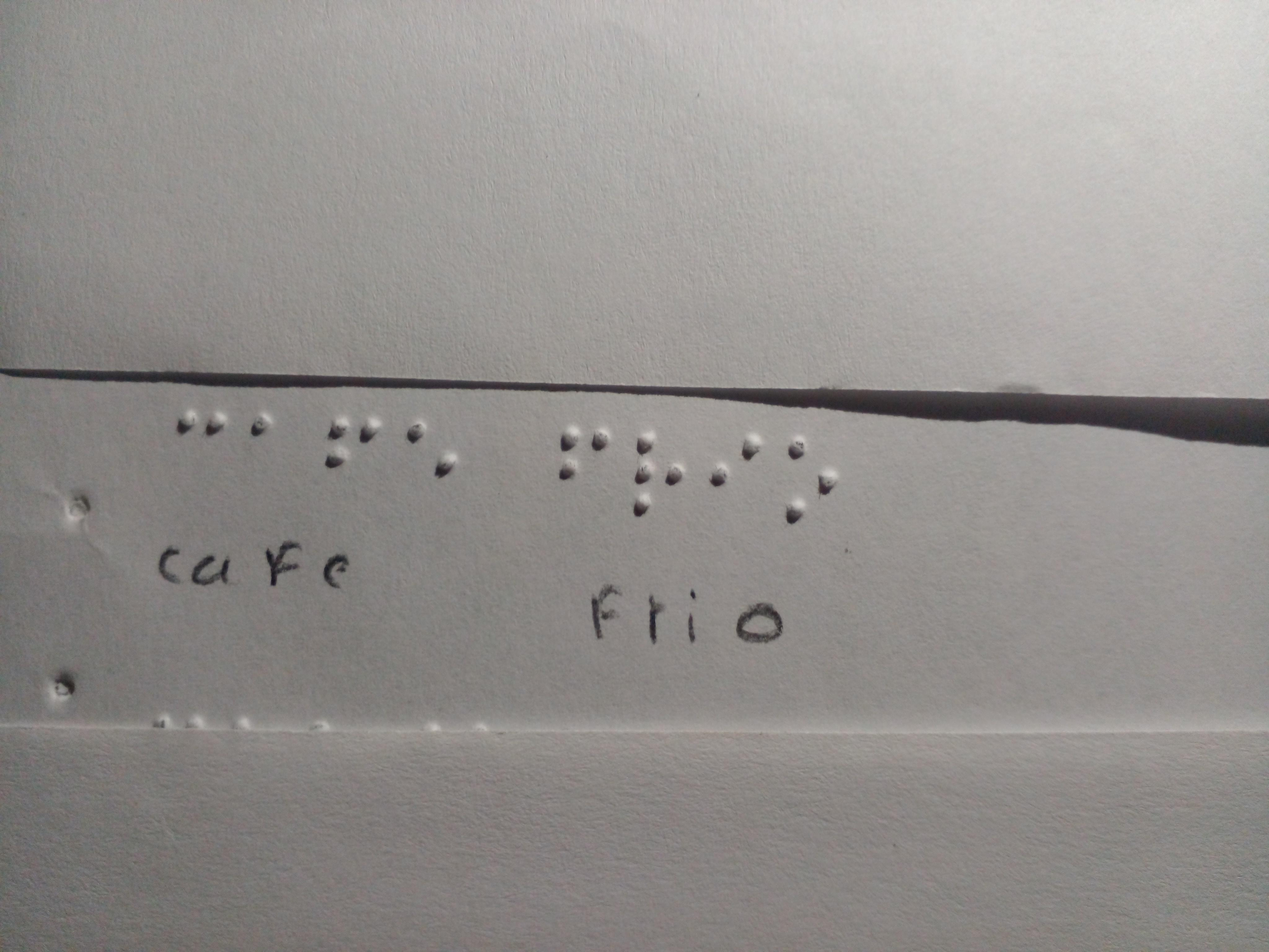a: (237, 401, 282, 451)
c: (166, 394, 234, 465)
e: (393, 408, 466, 488)
f: (550, 411, 617, 494), (322, 404, 389, 477)
i: (702, 428, 771, 505)
o: (782, 428, 852, 527)
r: (629, 425, 685, 521)
